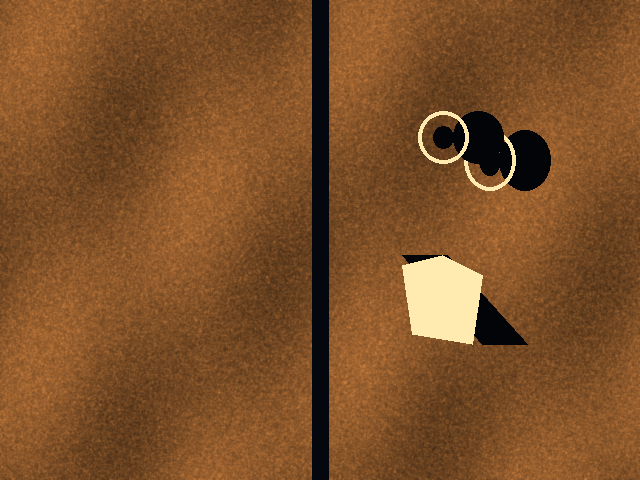Tire: (464, 130, 515, 190), (418, 111, 468, 163)
Unknown Debris: (402, 255, 482, 344)
